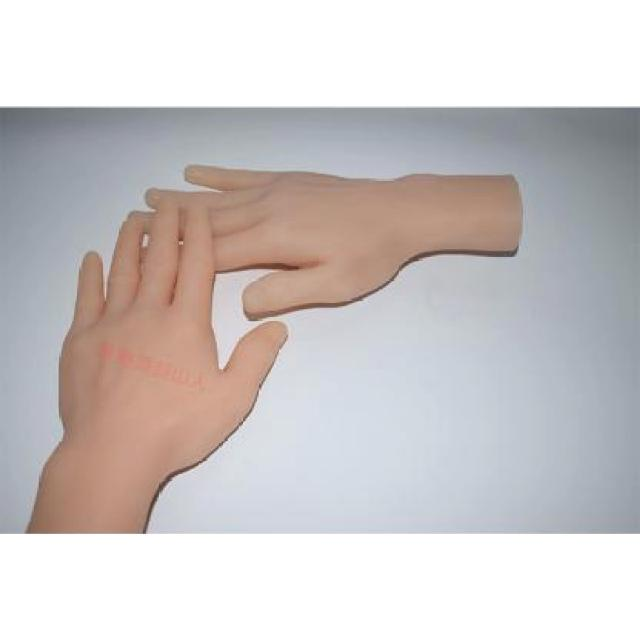hand_noglove: (46, 193, 288, 479), (95, 159, 391, 319)
